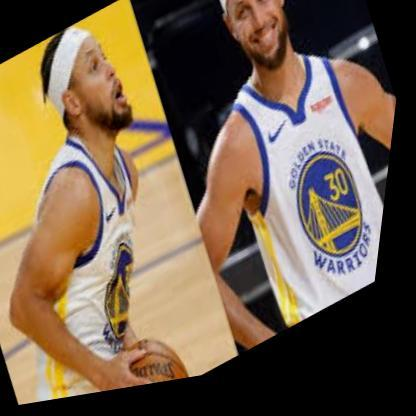basketball: (114, 325, 208, 396)
